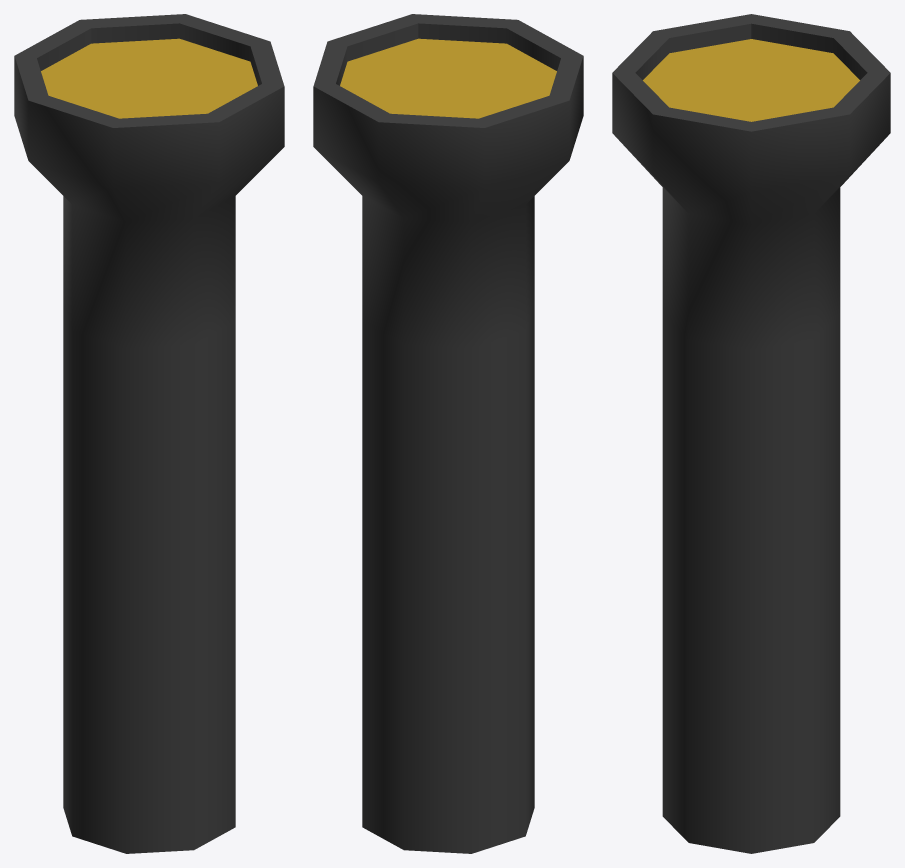
The model's file is Torch.fbx.
3 views of the same model, side by side, from view 1: azimuth 30°, elevation 25°; view 2: azimuth 150°, elevation 25°; view 3: azimuth 270°, elevation 25° (orthographic).
Visible parts, largest first — view 1: Cylinder001; view 2: Cylinder001; view 3: Cylinder001.
Part boxes in pixels (left/top/right/bottom): Cylinder001: left=14, top=14, right=284, bottom=853; Cylinder001: left=313, top=14, right=583, bottom=853; Cylinder001: left=612, top=14, right=890, bottom=853.
Bounding box in the file's own units: 5.11 × 15.05 × 5.11.
